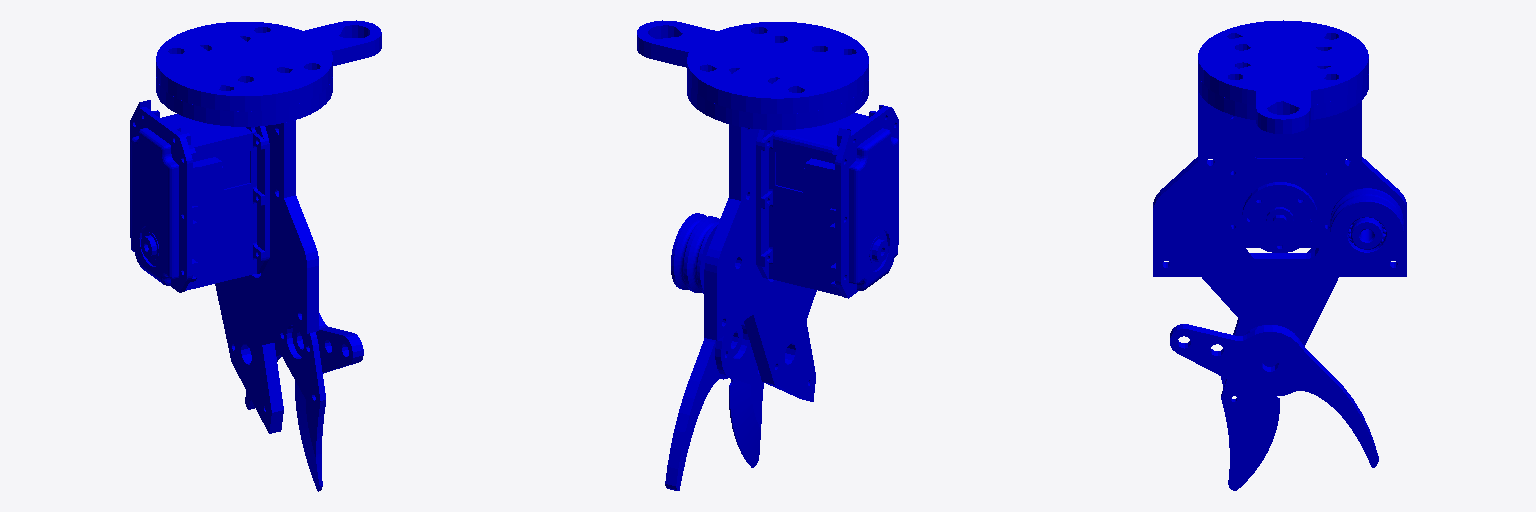
The robot description file, URDF, robot "ur5":
<?xml version="1.0" encoding="utf-8"?>
<!-- =================================================================================== -->
<!-- |    This document was autogenerated by xacro from ur5_joint_limited_robot.urdf.xacro | -->
<!-- |    EDITING THIS FILE BY HAND IS NOT RECOMMENDED                                 | -->
<!-- =================================================================================== -->
<robot name="ur5">
  <gazebo>
    <plugin filename="libgazebo_ros_control.so" name="ros_control">
      <!--robotNamespace>/</robotNamespace-->
      <!--robotSimType>gazebo_ros_control/DefaultRobotHWSim</robotSimType-->
    </plugin>
    <!--
    <plugin name="gazebo_ros_power_monitor_controller" filename="libgazebo_ros_power_monitor.so">
      <alwaysOn>true</alwaysOn>
      <updateRate>1.0</updateRate>
      <timeout>5</timeout>
      <powerStateTopic>power_state</powerStateTopic>
      <powerStateRate>10.0</powerStateRate>
      <fullChargeCapacity>87.78</fullChargeCapacity>     
      <dischargeRate>-474</dischargeRate>
      <chargeRate>525</chargeRate>
      <dischargeVoltage>15.52</dischargeVoltage>
      <chargeVoltage>16.41</chargeVoltage>
    </plugin>
-->
  </gazebo>
  <!-- measured from model -->
  <!--property name="shoulder_height" value="0.089159" /-->
  <!--property name="shoulder_offset" value="0.13585" /-->
  <!-- shoulder_offset - elbow_offset + wrist_1_length = 0.10915 -->
  <!--property name="upper_arm_length" value="0.42500" /-->
  <!--property name="elbow_offset" value="0.1197" /-->
  <!-- CAD measured -->
  <!--property name="forearm_length" value="0.39225" /-->
  <!--property name="wrist_1_length" value="0.093" /-->
  <!-- CAD measured -->
  <!--property name="wrist_2_length" value="0.09465" /-->
  <!-- In CAD this distance is 0.930, but in the spec it is 0.09465 -->
  <!--property name="wrist_3_length" value="0.0823" /-->
  <!-- manually measured -->
  <link name="base_link">
    <visual>
      <geometry>
        <mesh filename="ur5/meshes/base.dae"/>
      </geometry>
      <material name="LightGrey">
        <color rgba="0.7 0.7 0.7 1.0"/>
      </material>
    </visual>
    <collision>
      <geometry>
        <mesh filename="ur5/meshes/base.stl"/>
      </geometry>
    </collision>
    <inertial>
      <mass value="4.0"/>
      <origin rpy="0 0 0" xyz="0.0 0.0 0.0"/>
      <inertia ixx="0.00443333156" ixy="0.0" ixz="0.0" iyy="0.00443333156" iyz="0.0" izz="0.0072"/>
    </inertial>
  </link>
  <joint name="shoulder_pan_joint" type="revolute">
    <parent link="base_link"/>
    <child link="shoulder_link"/>
    <origin rpy="0.0 0.0 0.0" xyz="0.0 0.0 0.089159"/>
    <axis xyz="0 0 1"/>
    <limit effort="150.0" lower="-3.14159265359" upper="3.14159265359" velocity="3.15"/>
    <dynamics damping="0.0" friction="0.0"/>
  </joint>
  <link name="shoulder_link">
    <visual>
      <geometry>
        <mesh filename="ur5/meshes/shoulder.dae"/>
      </geometry>
      <material name="LightGrey">
        <color rgba="0.7 0.7 0.7 1.0"/>
      </material>
    </visual>
    <collision>
      <geometry>
        <mesh filename="ur5/meshes/shoulder.stl"/>
      </geometry>
    </collision>
    <inertial>
      <mass value="3.7"/>
      <origin rpy="0 0 0" xyz="0.0 0.0 0.0"/>
      <inertia ixx="0.010267495893" ixy="0.0" ixz="0.0" iyy="0.010267495893" iyz="0.0" izz="0.00666"/>
    </inertial>
  </link>
  <joint name="shoulder_lift_joint" type="revolute">
    <parent link="shoulder_link"/>
    <child link="upper_arm_link"/>
    <origin rpy="0.0 1.57079632679 0.0" xyz="0.0 0.13585 0.0"/>
    <axis xyz="0 1 0"/>
    <limit effort="150.0" lower="-3.14159265359" upper="3.14159265359" velocity="3.15"/>
    <dynamics damping="0.0" friction="0.0"/>
  </joint>
  <link name="upper_arm_link">
    <visual>
      <geometry>
        <mesh filename="ur5/meshes/upperarm.dae"/>
      </geometry>
      <material name="LightGrey">
        <color rgba="0.7 0.7 0.7 1.0"/>
      </material>
    </visual>
    <collision>
      <geometry>
        <mesh filename="ur5/meshes/upperarm.stl"/>
      </geometry>
    </collision>
    <inertial>
      <mass value="8.393"/>
      <origin rpy="0 0 0" xyz="0.0 0.0 0.28"/>
      <inertia ixx="0.22689067591" ixy="0.0" ixz="0.0" iyy="0.22689067591" iyz="0.0" izz="0.0151074"/>
    </inertial>
  </link>
  <joint name="elbow_joint" type="revolute">
    <parent link="upper_arm_link"/>
    <child link="forearm_link"/>
    <origin rpy="0.0 0.0 0.0" xyz="0.0 -0.1197 0.425"/>
    <axis xyz="0 1 0"/>
    <limit effort="150.0" lower="-3.14159265359" upper="3.14159265359" velocity="3.15"/>
    <dynamics damping="0.0" friction="0.0"/>
  </joint>
  <link name="forearm_link">
    <visual>
      <geometry>
        <mesh filename="ur5/meshes/forearm.dae"/>
      </geometry>
      <material name="LightGrey">
        <color rgba="0.7 0.7 0.7 1.0"/>
      </material>
    </visual>
    <collision>
      <geometry>
        <mesh filename="ur5/meshes/forearm.stl"/>
      </geometry>
    </collision>
    <inertial>
      <mass value="2.275"/>
      <origin rpy="0 0 0" xyz="0.0 0.0 0.196125"/>
      <inertia ixx="0.0312167910289" ixy="0.0" ixz="0.0" iyy="0.0312167910289" iyz="0.0" izz="0.004095"/>
    </inertial>
  </link>
  <joint name="wrist_1_joint" type="revolute">
    <parent link="forearm_link"/>
    <child link="wrist_1_link"/>
    <origin rpy="0.0 3.14159265359 0.0" xyz="0.0 0.0 0.39225"/>
    <axis xyz="0 1 0"/>
    <limit effort="28.0" lower="-3.14159265359" upper="3.14159265359" velocity="3.2"/>
    <dynamics damping="0.0" friction="0.0"/>
  </joint>
  <link name="wrist_1_link">
    <visual>
      <geometry>
        <mesh filename="ur5/meshes/wrist1.dae"/>
      </geometry>
      <material name="LightGrey">
        <color rgba="0.7 0.7 0.7 1.0"/>
      </material>
    </visual>
    <collision>
      <geometry>
        <mesh filename="ur5/meshes/wrist1.stl"/>
      </geometry>
    </collision>
    <inertial>
      <mass value="1.219"/>
      <origin rpy="0 0 0" xyz="0.0 0.093 0.0"/>
      <inertia ixx="0.00255989897604" ixy="0.0" ixz="0.0" iyy="0.00255989897604" iyz="0.0" izz="0.0021942"/>
    </inertial>
  </link>
  <joint name="wrist_2_joint" type="revolute">
    <parent link="wrist_1_link"/>
    <child link="wrist_2_link"/>
    <origin rpy="0.0 0.0 1.57079632679" xyz="0.0 0.093 0.0"/>
    <axis xyz="0 0 1"/>
    <limit effort="28.0" lower="-3.14159265359" upper="3.14159265359" velocity="3.2"/>
    <dynamics damping="0.0" friction="0.0"/>
  </joint>
  <link name="wrist_2_link">
    <visual>
      <geometry>
        <mesh filename="ur5/meshes/wrist2.dae"/>
      </geometry>
      <material name="LightGrey">
        <color rgba="0.7 0.7 0.7 1.0"/>
      </material>
    </visual>
    <collision>
      <geometry>
        <mesh filename="ur5/meshes/wrist2.stl"/>
      </geometry>
    </collision>
    <inertial>
      <mass value="1.219"/>
      <origin rpy="0 0 0" xyz="0.0 0.0 0.09465"/>
      <inertia ixx="0.00255989897604" ixy="0.0" ixz="0.0" iyy="0.00255989897604" iyz="0.0" izz="0.0021942"/>
    </inertial>
  </link>
  <joint name="wrist_3_joint" type="revolute">
    <parent link="wrist_2_link"/>
    <child link="wrist_3_link"/>
    <origin rpy="0.0 0.0 0.0" xyz="0.0 0.0 0.09465"/>
    <axis xyz="0 1 0"/>
    <limit effort="28.0" lower="-3.14159265359" upper="3.14159265359" velocity="3.2"/>
    <dynamics damping="0.0" friction="0.0"/>
  </joint>
  <link name="wrist_3_link">
    <visual>
      <geometry>
        <mesh filename="ur5/meshes/wrist3.dae"/>
      </geometry>
      <material name="LightGrey">
        <color rgba="0.7 0.7 0.7 1.0"/>
      </material>
    </visual>
    <collision>
      <geometry>
        <mesh filename="ur5/meshes/wrist3.stl"/>
      </geometry>
    </collision>
    <inertial>
      <mass value="0.1879"/>
      <origin rpy="1.57079632679 0 0" xyz="0.0 0.06505 0.0"/>
      <inertia ixx="8.46958911216e-05" ixy="0.0" ixz="0.0" iyy="8.46958911216e-05" iyz="0.0" izz="0.0001321171875"/>
    </inertial>
  </link>
  <joint name="ee_fixed_joint" type="fixed">
    <parent link="wrist_3_link"/>
    <child link="ee_link"/>
    <origin rpy="0.0 0.0 1.57079632679" xyz="0.0 0.0823 0.0"/>
  </joint>
  <link name="ee_link">
    <collision>
      <geometry>
        <box size="0.01 0.01 0.01"/>
      </geometry>
      <origin rpy="0 0 0" xyz="-0.01 0 0"/>
    </collision>
  </link>
  <transmission name="shoulder_pan_trans">
    <type>transmission_interface/SimpleTransmission</type>
    <joint name="shoulder_pan_joint">
      <hardwareInterface>hardware_interface/PositionJointInterface</hardwareInterface>
    </joint>
    <actuator name="shoulder_pan_motor">
      <mechanicalReduction>1</mechanicalReduction>
    </actuator>
  </transmission>
  <transmission name="shoulder_lift_trans">
    <type>transmission_interface/SimpleTransmission</type>
    <joint name="shoulder_lift_joint">
      <hardwareInterface>hardware_interface/PositionJointInterface</hardwareInterface>
    </joint>
    <actuator name="shoulder_lift_motor">
      <mechanicalReduction>1</mechanicalReduction>
    </actuator>
  </transmission>
  <transmission name="elbow_trans">
    <type>transmission_interface/SimpleTransmission</type>
    <joint name="elbow_joint">
      <hardwareInterface>hardware_interface/PositionJointInterface</hardwareInterface>
    </joint>
    <actuator name="elbow_motor">
      <mechanicalReduction>1</mechanicalReduction>
    </actuator>
  </transmission>
  <transmission name="wrist_1_trans">
    <type>transmission_interface/SimpleTransmission</type>
    <joint name="wrist_1_joint">
      <hardwareInterface>hardware_interface/PositionJointInterface</hardwareInterface>
    </joint>
    <actuator name="wrist_1_motor">
      <mechanicalReduction>1</mechanicalReduction>
    </actuator>
  </transmission>
  <transmission name="wrist_2_trans">
    <type>transmission_interface/SimpleTransmission</type>
    <joint name="wrist_2_joint">
      <hardwareInterface>hardware_interface/PositionJointInterface</hardwareInterface>
    </joint>
    <actuator name="wrist_2_motor">
      <mechanicalReduction>1</mechanicalReduction>
    </actuator>
  </transmission>
  <transmission name="wrist_3_trans">
    <type>transmission_interface/SimpleTransmission</type>
    <joint name="wrist_3_joint">
      <hardwareInterface>hardware_interface/PositionJointInterface</hardwareInterface>
    </joint>
    <actuator name="wrist_3_motor">
      <mechanicalReduction>1</mechanicalReduction>
    </actuator>
  </transmission>
  <gazebo reference="shoulder_link">
    <selfCollide>true</selfCollide>
  </gazebo>
  <gazebo reference="upper_arm_link">
    <selfCollide>true</selfCollide>
  </gazebo>
  <gazebo reference="forearm_link">
    <selfCollide>true</selfCollide>
  </gazebo>
  <gazebo reference="wrist_1_link">
    <selfCollide>true</selfCollide>
  </gazebo>
  <gazebo reference="wrist_3_link">
    <selfCollide>true</selfCollide>
  </gazebo>
  <gazebo reference="wrist_2_link">
    <selfCollide>true</selfCollide>
  </gazebo>
  <gazebo reference="ee_link">
    <selfCollide>true</selfCollide>
  </gazebo>
  <!-- ROS base_link to UR 'Base' Coordinates transform -->
  <link name="base"/>
  <joint name="base_link-base_fixed_joint" type="fixed">
    <!-- NOTE: this rotation is only needed as long as base_link itself is
                 not corrected wrt the real robot (ie: rotated over 180
                 degrees)
      -->
    <origin rpy="0 0 -3.14159265359" xyz="0 0 0"/>
    <parent link="base_link"/>
    <child link="base"/>
  </joint>
  <!-- Frame coincident with all-zeros TCP on UR controller -->
  <link name="tool0"/>
  <joint name="wrist_3_to_ee_base_joint" type="fixed">
    <origin rpy="3.1415 0 1.5708 " xyz="0.038 0.085 0.05 "/> <!---rpy="3.1415 0 1.5708 " xyz="-0.049 0.0818 0.042 "-->
    <child link="ee_base_link"/>
    <parent link="wrist_3_link"/>
  </joint>
  <link name="ee_base_link">
    <visual>
      <origin rpy=" 0 0 0" xyz="0 0 0"/>
      <geometry>
        <mesh filename="meshes/ee3_coarse_edited_.stl" scale=".001 .001 .001"/>
      </geometry>
      <material name="aluminum">
        <color rgba="0.0 0.0 0.9377 1"/>
      </material>
    </visual>
    <collision>
      <origin xyz="0 0 0"/>
      <geometry>
        <mesh filename="meshes/ee3_coarse_edited_.stl" scale=".001 .001 .001"/>
      </geometry>
    </collision>
    <inertial>
      <mass value="0.2"/>
      <origin rpy=" 0 0 0" xyz="0.0 0 0.0"/>
      <inertia ixx="1.0" ixy="0" ixz="0" iyy="1.0" iyz="0" izz="1.0"/>
      <!--inertia ixx="0.5" ixy="0" ixz="0" iyy="1.0" iyz="0" izz="0.1"/-->
    </inertial>
  </link>
  <joint name="wrist_3_link-tool0_fixed_joint" type="fixed">
    <origin rpy="-1.57079632679 0 0" xyz="0 0.0823 0"/>
    <parent link="wrist_3_link"/>
    <child link="tool0"/>
  </joint>
  <link name="world"/>
  <joint name="world_joint" type="fixed">
    <parent link="world"/>
    <child link="base_link"/>
    <origin rpy="0.0 0.0 0.0" xyz="0.0 0.0 0.0"/>
  </joint>
</robot>

--- Facts derived from the render (not from the file) ---
Views: 3 orthographic renders of the robot side by side, from view 1: azimuth 30°, elevation 25°; view 2: azimuth 150°, elevation 25°; view 3: azimuth 270°, elevation 25°.
Model ur5 with 12 links and 11 joints (6 revolute, 5 fixed), rooted at world, posed all joints at 0.
Visible links, largest first — view 1: ee_base_link; view 2: ee_base_link; view 3: ee_base_link.
Link boxes in pixels (box(x1,y1,x2,y2)): ee_base_link: box(130, 20, 381, 491); ee_base_link: box(637, 20, 898, 490); ee_base_link: box(1153, 20, 1406, 490).
Size in the robot's own frame: 0.0959 by 0.0937 by 0.1671 metres.
1 mesh visuals loaded from 8 distinct referenced files (1 binary STL); not drawn: 7 (reference not matched to a file when rendering).